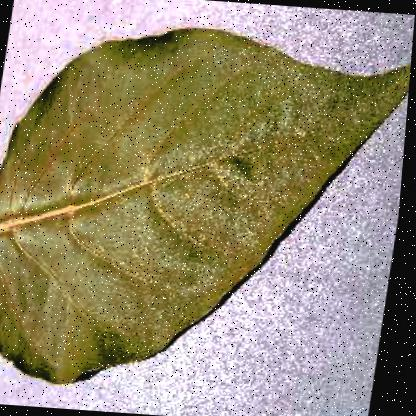Healthy: (0, 9, 414, 408)
